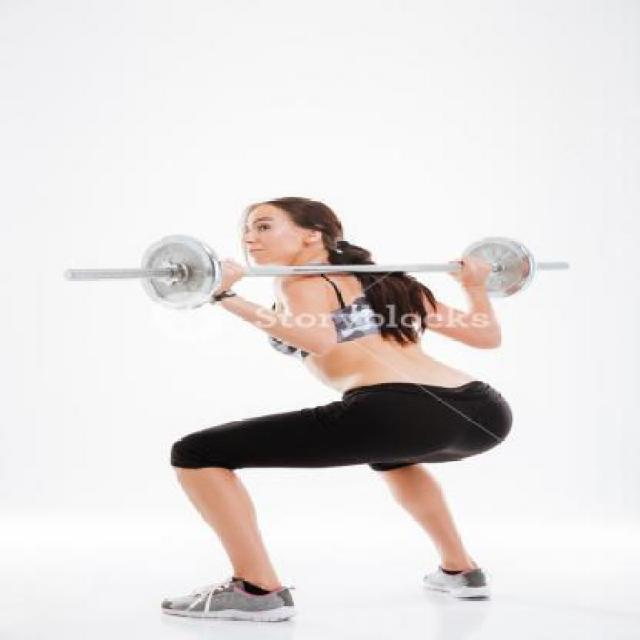Barbell: (55, 260, 94, 288)
